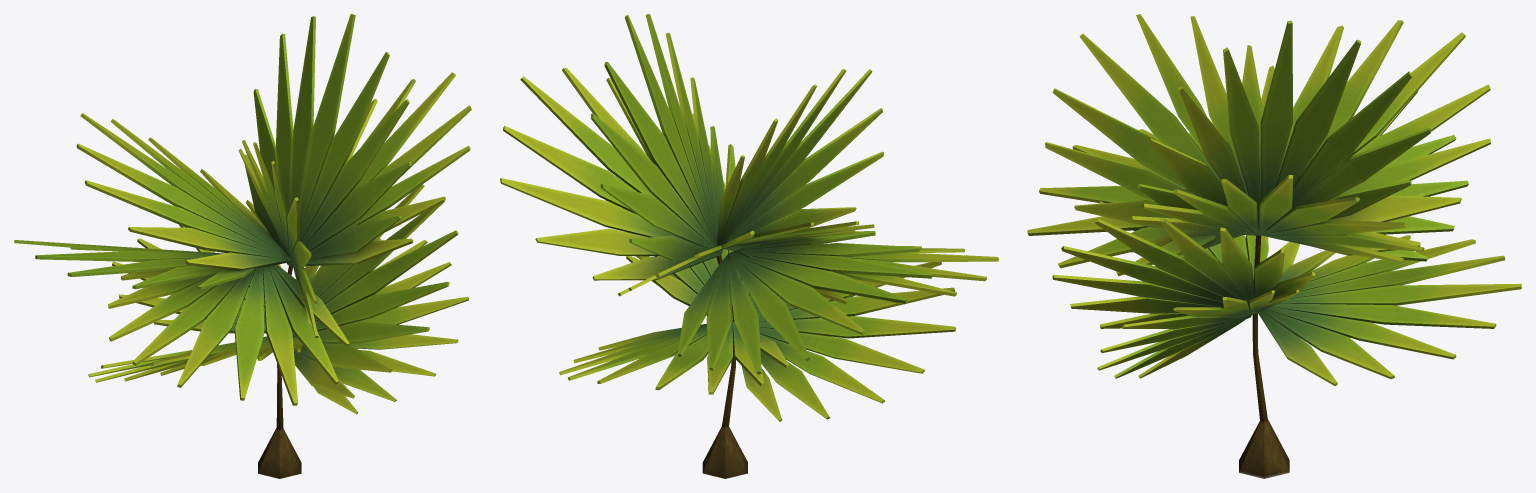
File: Tree-Palm-Umbrella-Low-Poly-GB.fbx
The picture shows the model from 3 angles, left to right: view 1: azimuth 30°, elevation 25°; view 2: azimuth 150°, elevation 25°; view 3: azimuth 270°, elevation 25°; orthographic projection. The views are drawn at different scales.
Parts seen in each view (by area): view 1: UmbrellaPalmTree_mesh; view 2: UmbrellaPalmTree_mesh; view 3: UmbrellaPalmTree_mesh.
Part boxes in pixels (bbox=[...]): UmbrellaPalmTree_mesh: bbox=[14, 14, 471, 478]; UmbrellaPalmTree_mesh: bbox=[500, 14, 998, 478]; UmbrellaPalmTree_mesh: bbox=[1027, 14, 1521, 478].
Bounding box in the file's own units: 157 × 160 × 146.
1 material, 1 textured.
